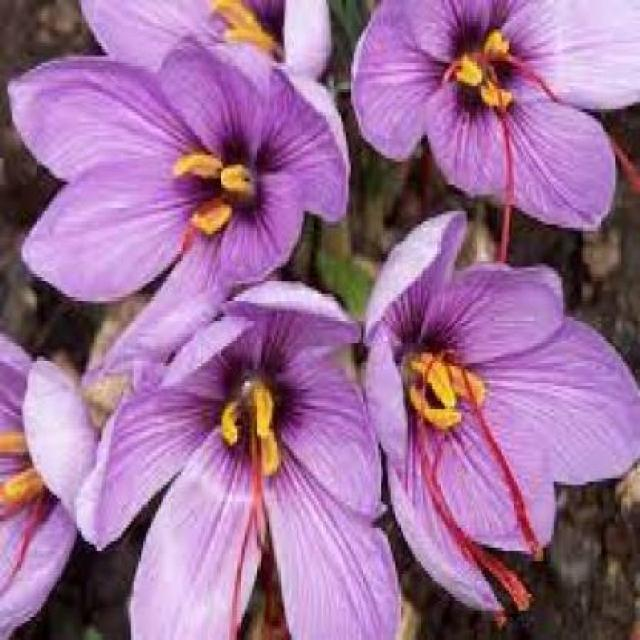saffron open: (78, 281, 399, 640), (366, 212, 640, 620), (11, 46, 349, 354), (352, 0, 640, 229)
